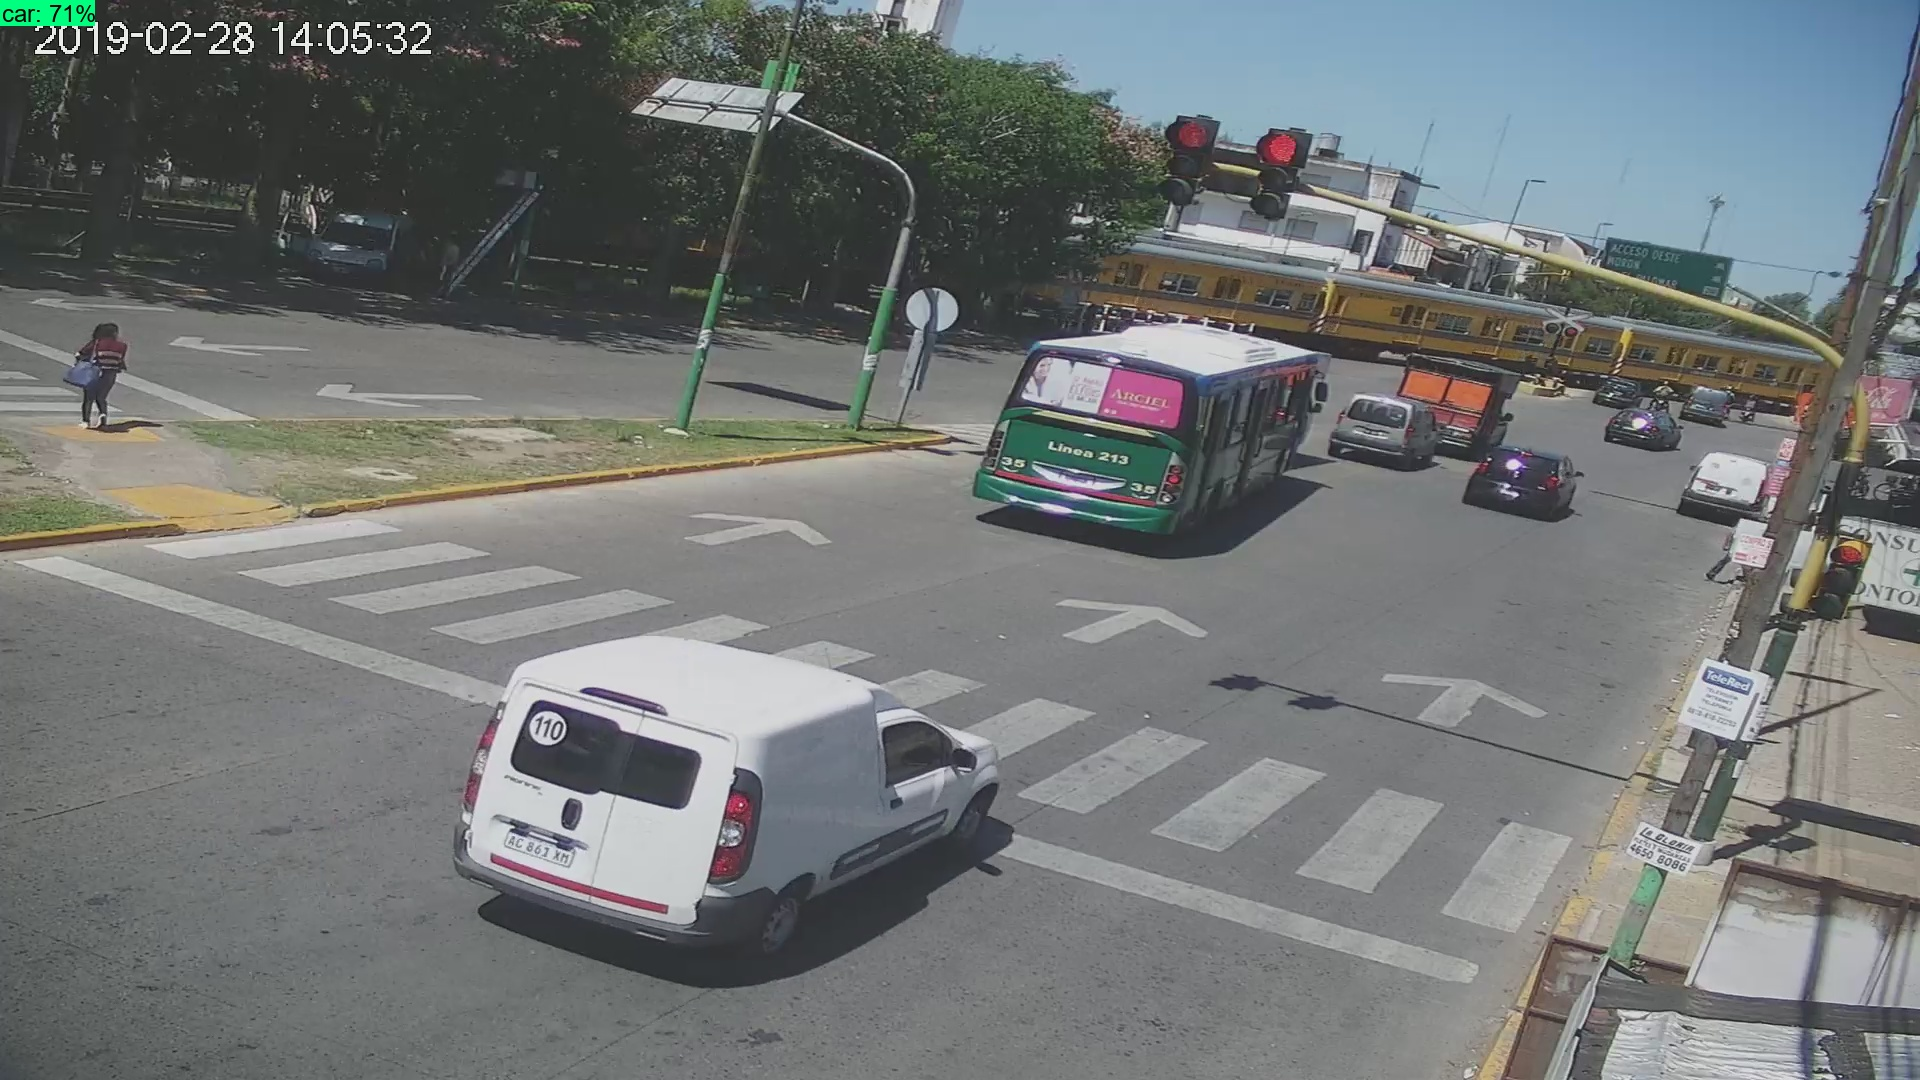bus: (961, 316, 1331, 556)
car: (436, 622, 1027, 984), (1455, 435, 1594, 529), (1327, 390, 1445, 483), (1667, 435, 1772, 529)
